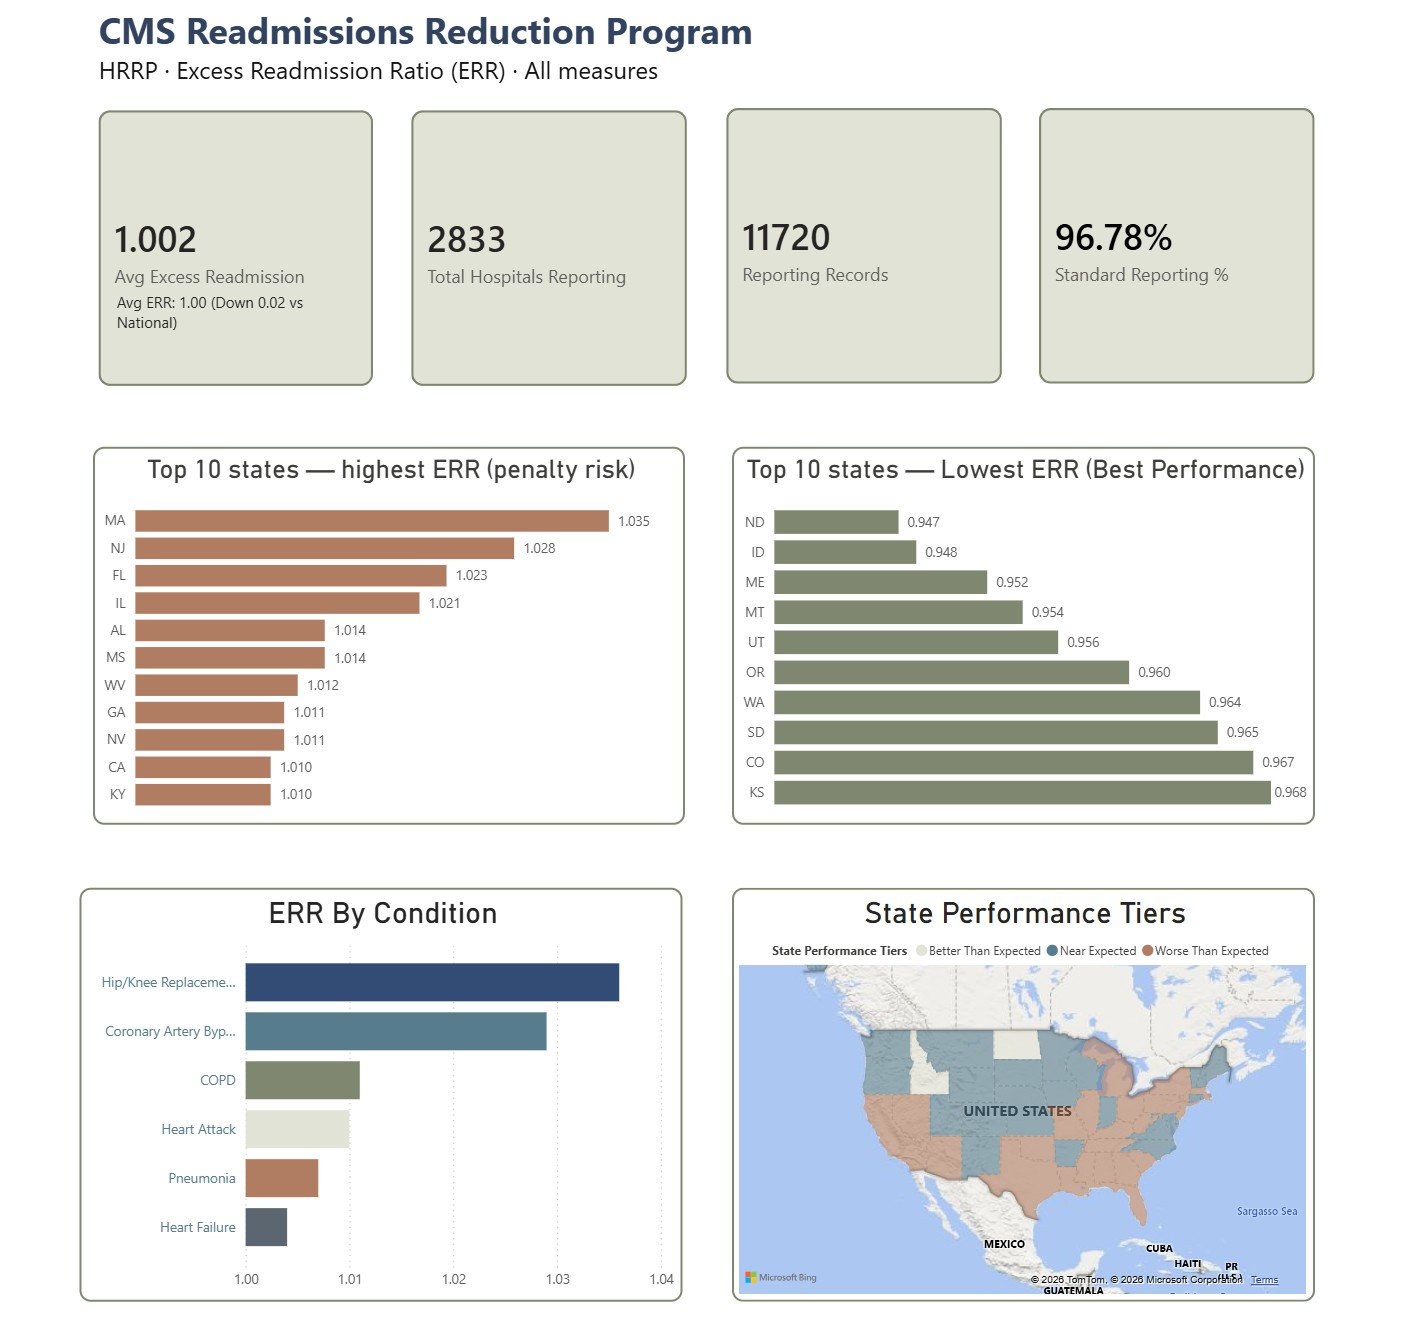

What the dashboard file says about the page in this screenshot:
{"tool":"powerbi","page":{"name":"Page 1","canvas":[1280,1200],"ordinal":0},"visuals":[{"type":"cardVisual","fields":{"Data":["Sum(executive_kpi_summary.avg_err)"]},"box":[75.4,81.2,278.4,279.5],"z":0},{"type":"cardVisual","fields":{"Data":["Sum(executive_kpi_summary.total_hospitals)"]},"box":[353.8,81.2,279.5,279.5],"z":1000},{"type":"cardVisual","fields":{"Data":["Sum(executive_kpi_summary.reporting_records)"]},"box":[633.3,80,279.5,279.5],"z":2000},{"type":"cardVisual","fields":{"Data":["Sum(executive_kpi_summary.pct_standard_reporting)"]},"box":[912.8,80,279.5,279.5],"z":3000},{"type":"filledMap","title":"State Performance Tiers","fields":{"Category":["state_kpi_summary.state"],"Series":["state_kpi_summary.performance_tier"]},"box":[656,790,518,368],"z":4000},{"type":"barChart","title":"ERR By Condition","fields":{"Category":["measure_kpi_summary.measure_display_name"],"Y":["Avg(measure_kpi_summary.avg_err)"],"Series":["measure_kpi_summary.measure_display_name"]},"box":[76,790,536,368],"z":5000},{"type":"clusteredBarChart","title":"Top 10 states — highest ERR (penalty risk)","fields":{"Category":["state_kpi_summary.state"],"Y":["Avg(state_kpi_summary.avg_err)"]},"box":[88,398,526,336],"z":6000},{"type":"clusteredBarChart","title":"Top 10 states — Lowest ERR (Best Performance)","fields":{"Category":["state_kpi_summary.state"],"Y":["Avg(state_kpi_summary.avg_err)"]},"box":[656,398,518,336],"z":7000},{"type":"textbox","box":[88,0,618,82],"z":8000},{"type":"textbox","box":[103.1,238.8,227.6,81.6],"z":9000}]}

Visuals, with their boxes in screenshot pixels (x1, y1, x2, y2), scaled from the page's 1280x1200 canvas onto the 1417x1332 screenshot:
cardVisual - Sum(executive_kpi_summary.avg_err): region(83, 90, 392, 400)
cardVisual - Sum(executive_kpi_summary.total_hospitals): region(392, 90, 701, 400)
cardVisual - Sum(executive_kpi_summary.reporting_records): region(701, 89, 1010, 399)
cardVisual - Sum(executive_kpi_summary.pct_standard_reporting): region(1010, 89, 1320, 399)
"State Performance Tiers" filledMap: region(726, 877, 1300, 1285)
"ERR By Condition" barChart: region(84, 877, 678, 1285)
"Top 10 states — highest ERR (penalty risk)" clusteredBarChart: region(97, 442, 680, 815)
"Top 10 states — Lowest ERR (Best Performance)" clusteredBarChart: region(726, 442, 1300, 815)
textbox: region(97, 0, 782, 91)
textbox: region(114, 265, 366, 356)
